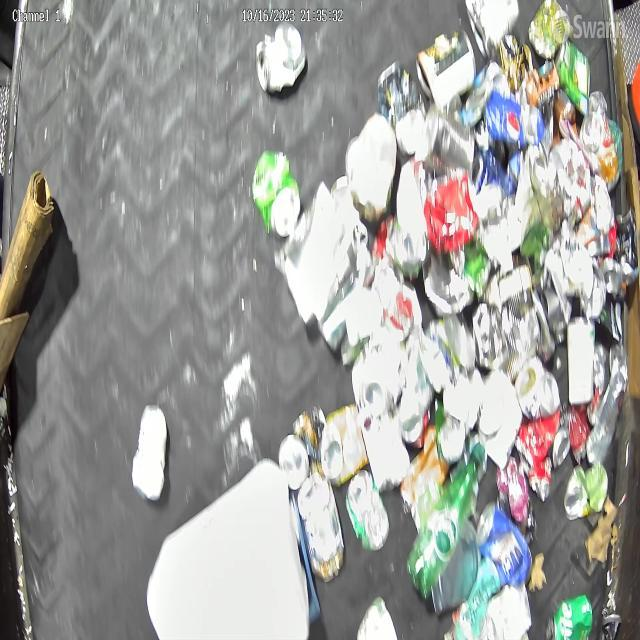can: (296, 471, 344, 584), (476, 500, 534, 588), (416, 26, 476, 110), (376, 60, 427, 158), (252, 149, 301, 238), (320, 403, 370, 488), (278, 404, 326, 491), (255, 19, 307, 96), (578, 111, 624, 195), (424, 104, 476, 176), (346, 469, 390, 552), (465, 0, 520, 64), (132, 404, 167, 502), (514, 356, 560, 418), (556, 38, 591, 116), (566, 316, 596, 406), (564, 463, 608, 521), (528, 0, 570, 60), (600, 208, 622, 298), (616, 205, 639, 286), (551, 403, 571, 470)
milk_jug: (147, 458, 310, 640)
